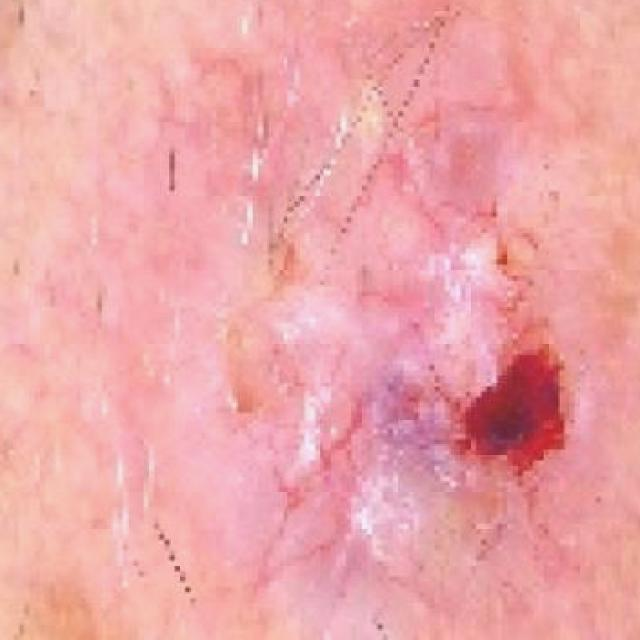BCC: (122, 0, 640, 612)
